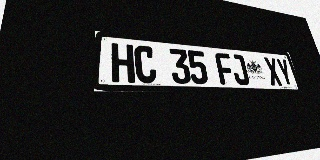3: (169, 48, 191, 84)
5: (187, 50, 209, 84)
C: (134, 45, 157, 83)
F: (214, 52, 236, 85)
H: (111, 43, 135, 83)
J: (229, 54, 250, 85)
X: (263, 57, 283, 86)
Y: (275, 58, 295, 86)
